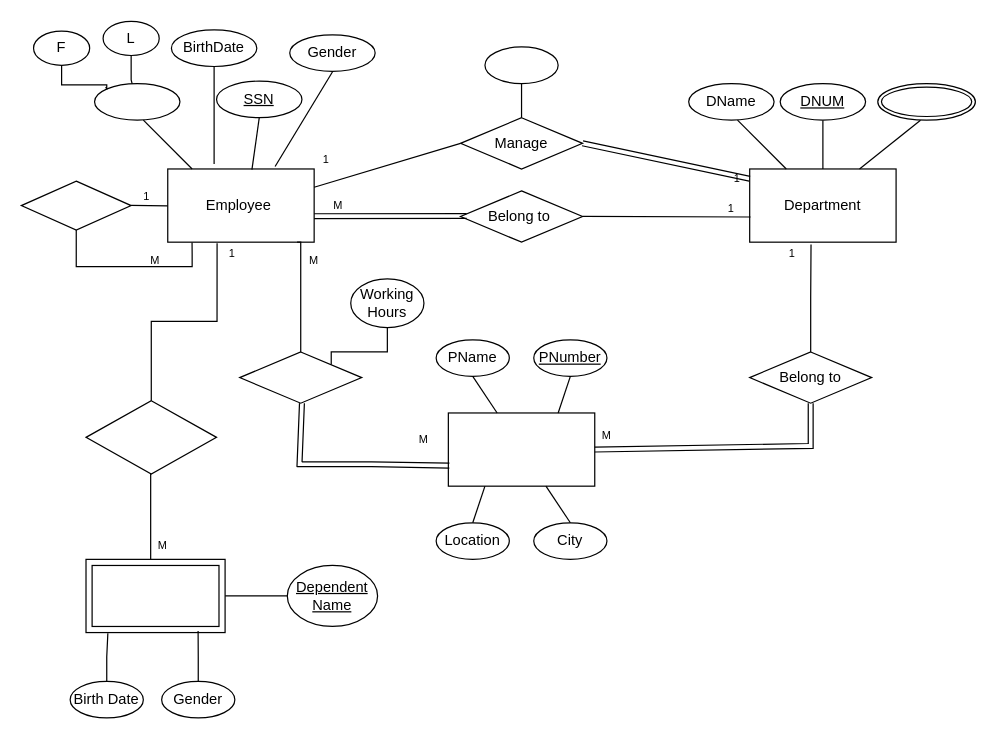
The diagram is 997 pixels wide and 739 high, and some of its shapes have lost their labels. The shapes that lost their labels are listed below. From the top down, each one's box as (x1, y1, x2, y2) in pixels, then its label:
(484, 46, 558, 84): HireDate
(93, 82, 180, 120): Name
(877, 82, 975, 120): Locations
(20, 180, 131, 230): Supervise
(239, 351, 362, 403): Work on
(85, 400, 217, 474): Associated with
(447, 412, 595, 486): Project
(85, 558, 225, 633): Dependent
